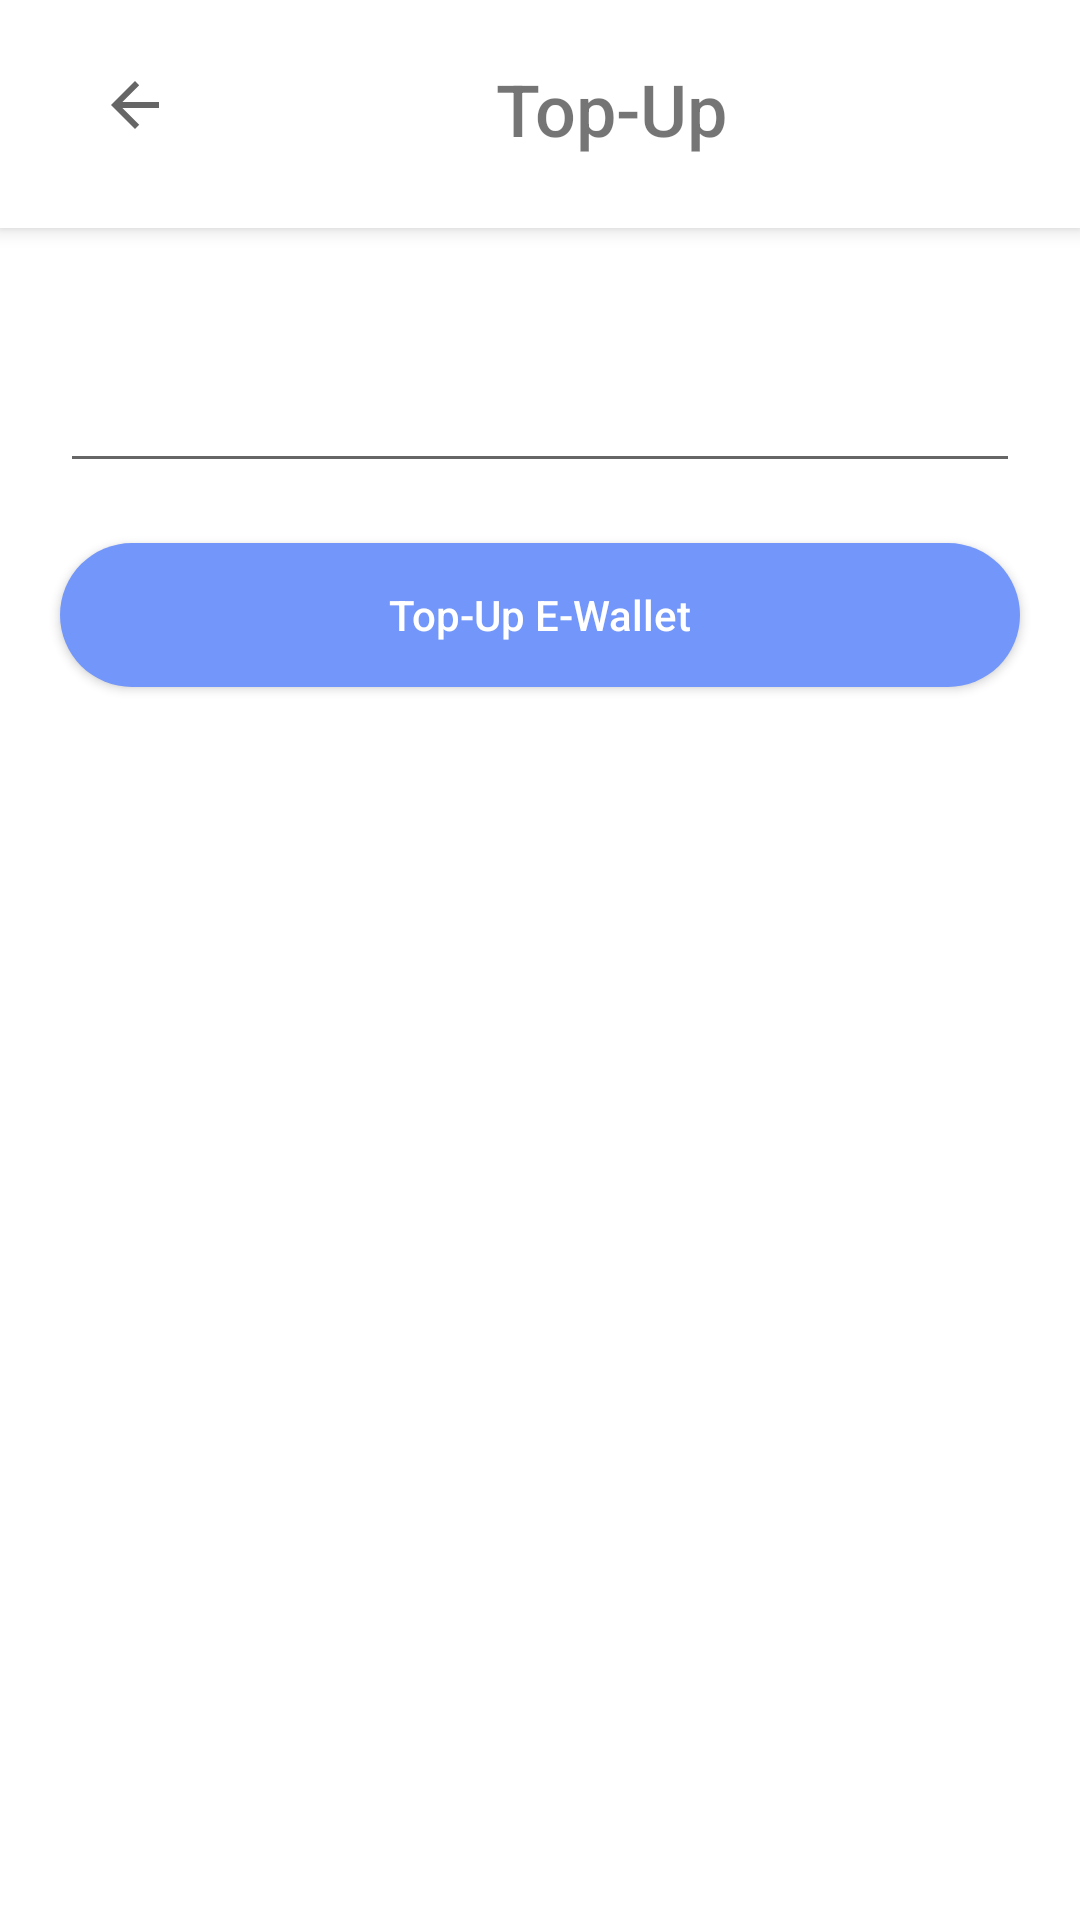

Screen size 1080px×1920px. Icon name, then its center in pixels as [x,y]:
Back To Menu: [135,105]
